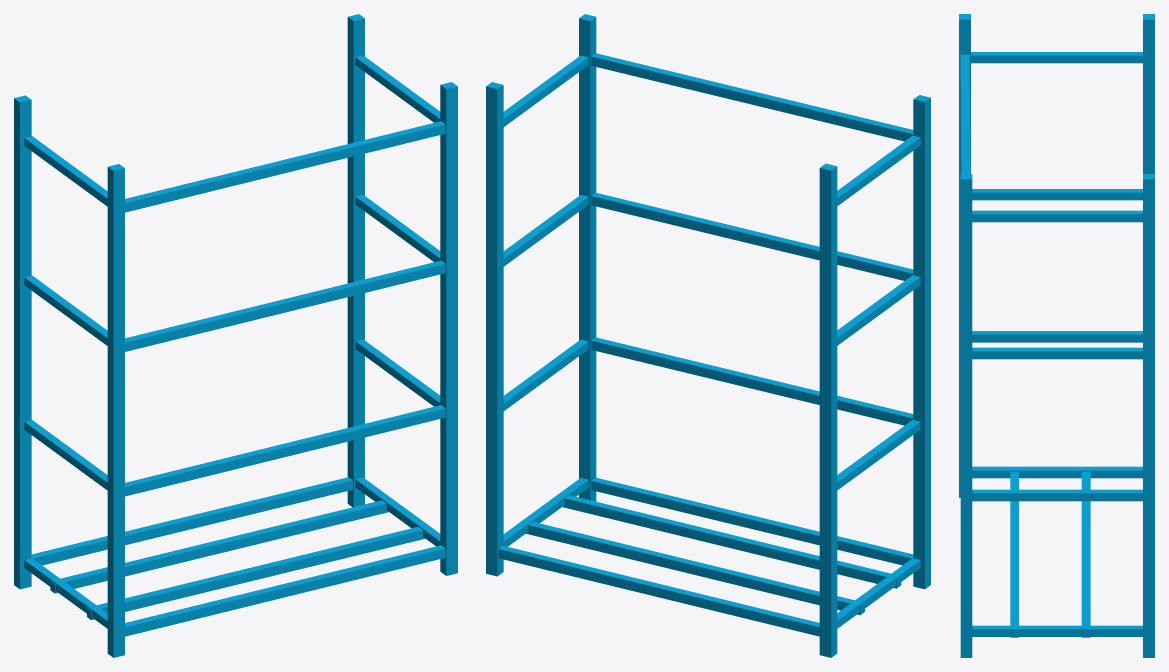
File: Gas_Cylinder_Shelf_03_Lod0.fbx
3 renders of one model, left to right at view 1: azimuth 30°, elevation 25°; view 2: azimuth 150°, elevation 25°; view 3: azimuth 270°, elevation 25°, orthographic.
Visible parts, largest first — view 1: Gas_Cylinder_Shelf_03_Lod0; view 2: Gas_Cylinder_Shelf_03_Lod0; view 3: Gas_Cylinder_Shelf_03_Lod0.
Boxes of the visible parts, bbox=[...] form: Gas_Cylinder_Shelf_03_Lod0: bbox=[14, 14, 457, 657]; Gas_Cylinder_Shelf_03_Lod0: bbox=[486, 14, 930, 657]; Gas_Cylinder_Shelf_03_Lod0: bbox=[959, 14, 1154, 657].
Bounding box in the file's own units: 100 × 135 × 50.03.
